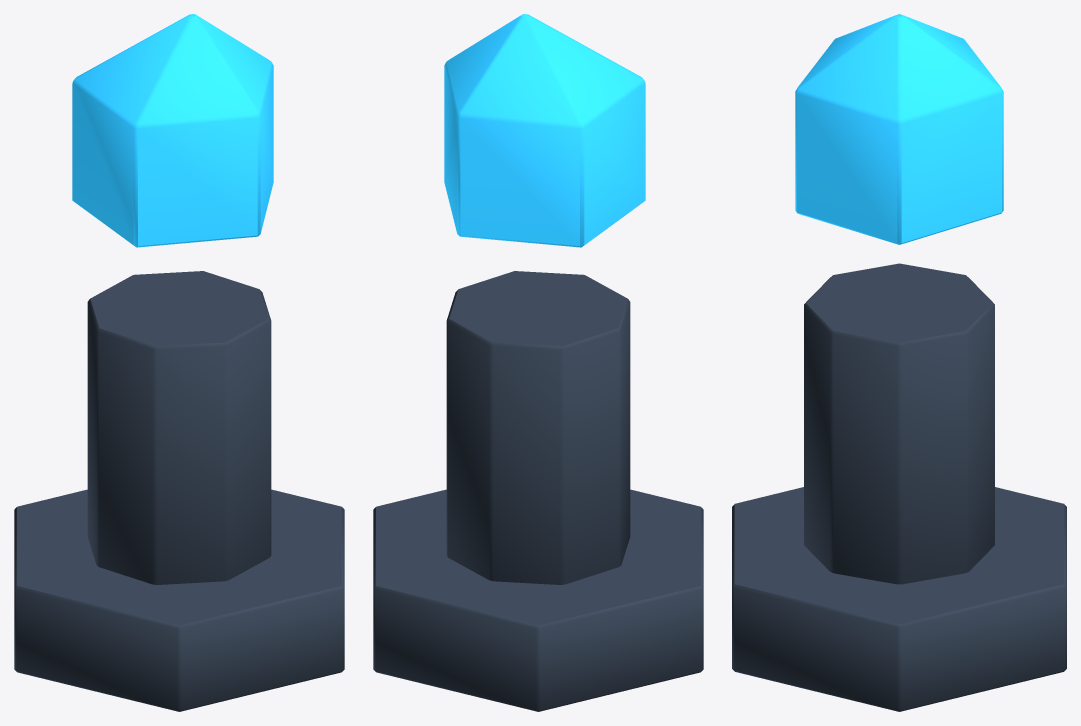
The model's file is hologram_post_01.glb.
3 renders of one model, left to right at view 1: azimuth 30°, elevation 25°; view 2: azimuth 150°, elevation 25°; view 3: azimuth 270°, elevation 25°, orthographic.
Parts seen in each view (by area): view 1: hologram_post_01; view 2: hologram_post_01; view 3: hologram_post_01.
Part boxes in pixels (left/top/right/bottom): hologram_post_01: left=14, top=14, right=344, bottom=711; hologram_post_01: left=373, top=14, right=703, bottom=711; hologram_post_01: left=732, top=14, right=1066, bottom=711.
Size of the model in its own units: 0.556 by 0.9947 by 0.485.
